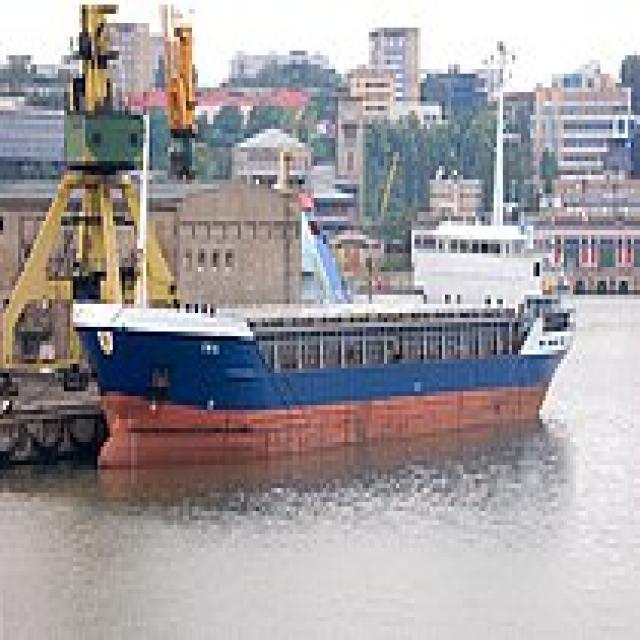Ship: (65, 195, 586, 476)
